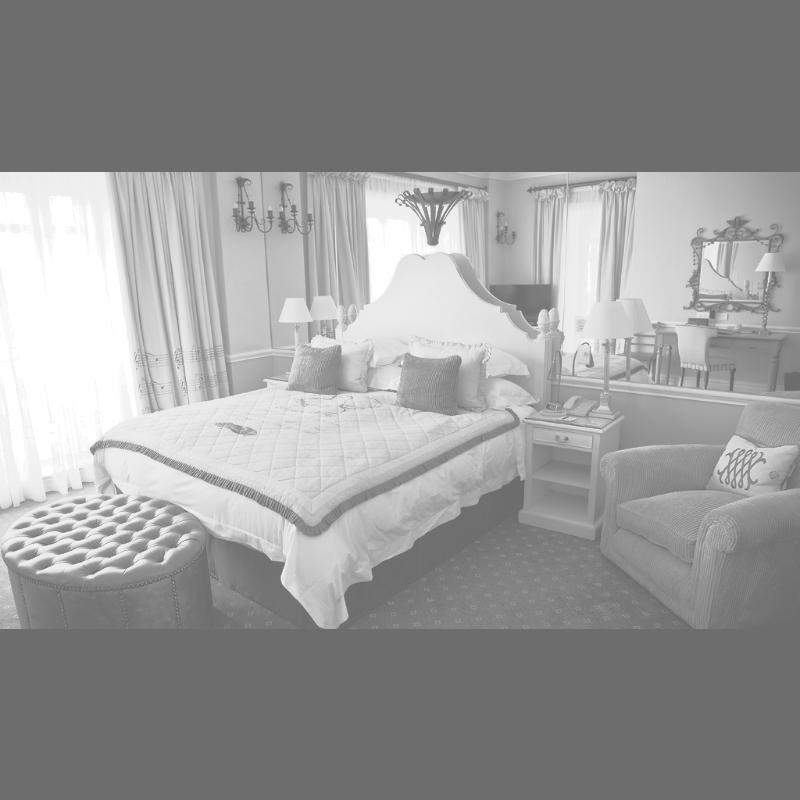pillow: (409, 330, 483, 418), (706, 432, 794, 498), (312, 330, 370, 398), (395, 352, 459, 412), (282, 343, 332, 393), (482, 376, 538, 416), (485, 342, 524, 380), (366, 334, 394, 370), (364, 362, 404, 386)
